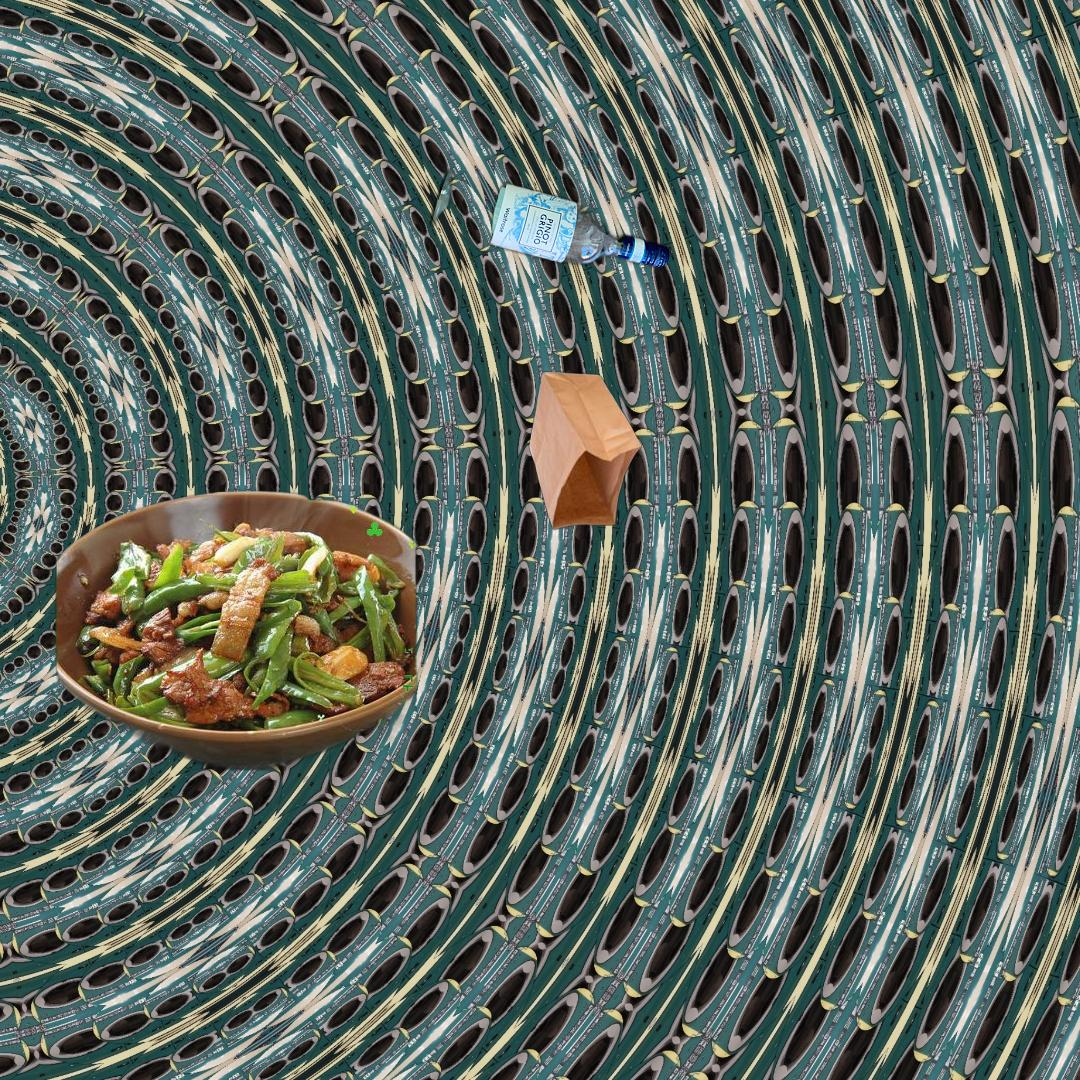biological: (28, 487, 422, 805)
glass: (426, 163, 675, 274)
paper-bag: (526, 370, 643, 533)
